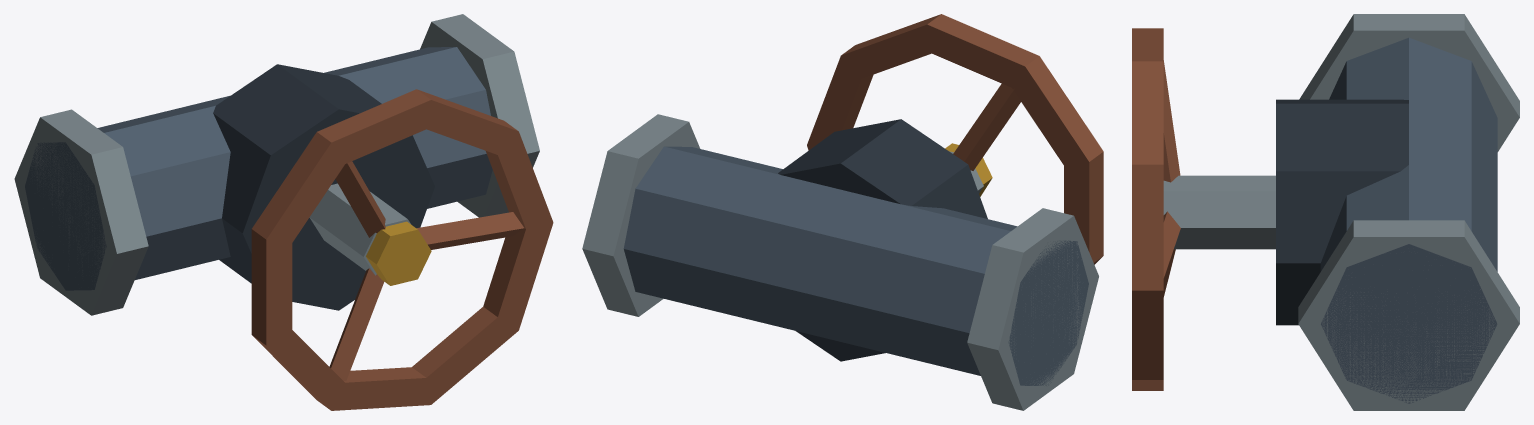
Rendered from K-04_pipe_valve.glb.
3 views of the same model, side by side, from view 1: azimuth 30°, elevation 25°; view 2: azimuth 150°, elevation 25°; view 3: azimuth 270°, elevation 25° (orthographic). The views are drawn at different scales.
Visible parts, largest first — view 1: K-04_pipe_valve; view 2: K-04_pipe_valve; view 3: K-04_pipe_valve.
Boxes of the visible parts, left/top/right/bottom form: K-04_pipe_valve: left=14, top=14, right=553, bottom=410; K-04_pipe_valve: left=582, top=14, right=1103, bottom=410; K-04_pipe_valve: left=1132, top=14, right=1519, bottom=410.
Size of the model in its own units: 0.4 by 0.2757 by 0.294.
